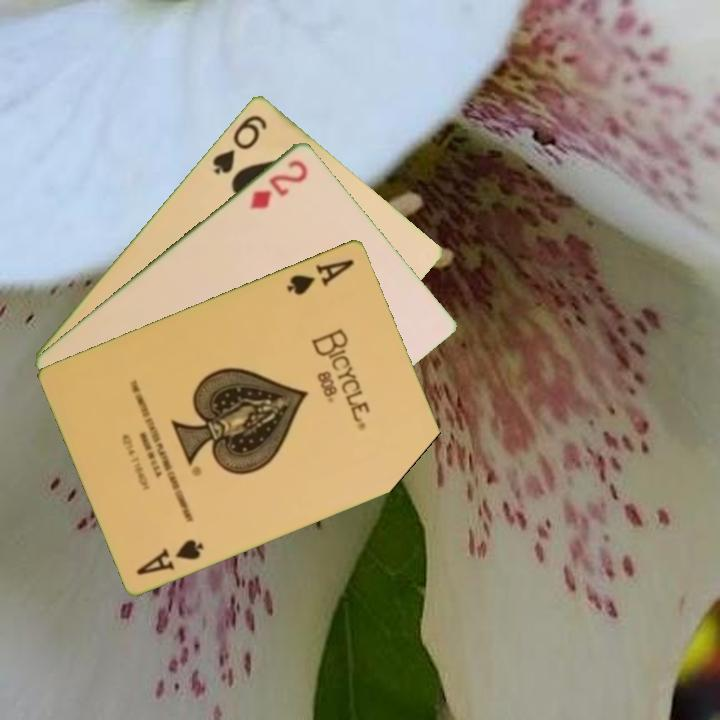2d: (246, 155, 311, 212)
6s: (208, 110, 270, 177)
As: (283, 255, 358, 298), (133, 535, 207, 578)
